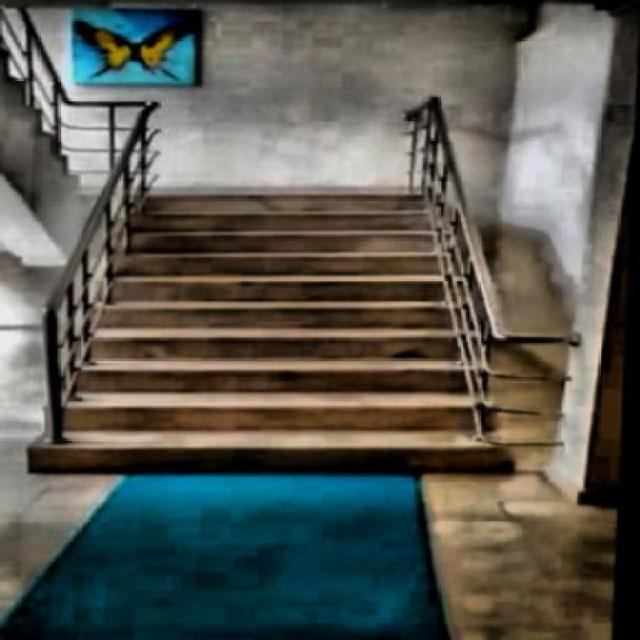stair: (85, 198, 506, 470)
